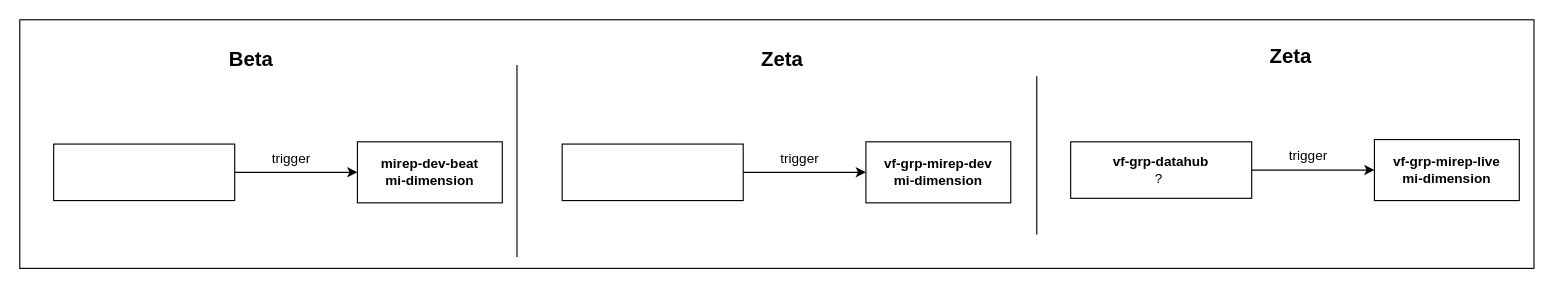
Some shapes in this 1554 by 288 pixel diagram are drawn without their labels. Here are the shapes that lost their labels. From the top down, the centre of each, then its label:
(x=144, y=172): mirep-datahub-beta vfgrp-dh-advanced-analytics-beta
(x=652, y=172): vf-grp-datahub Vfgrp-dh-mireporting
